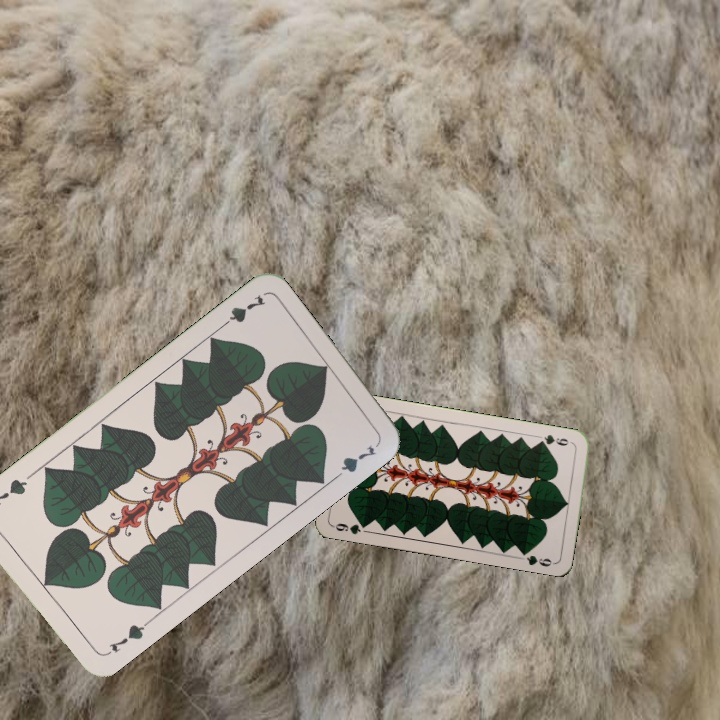G7: (215, 291, 268, 332), (100, 618, 151, 659)
G9: (330, 518, 371, 537), (535, 430, 576, 448)
